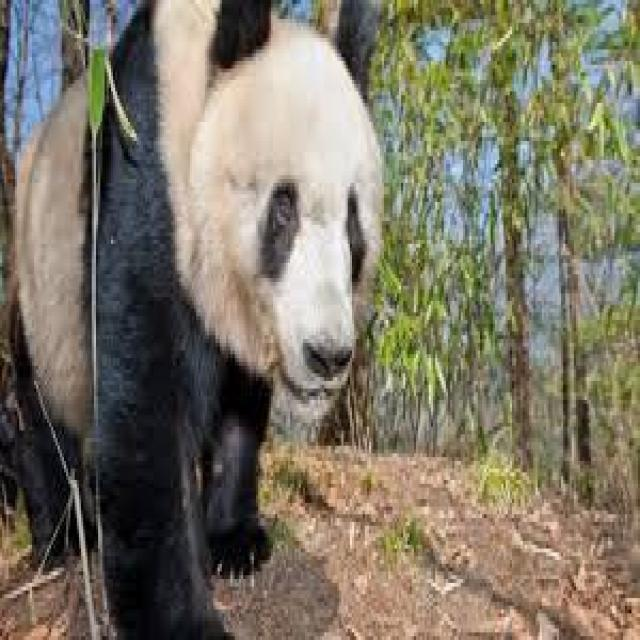Panda: (1, 0, 397, 640)
